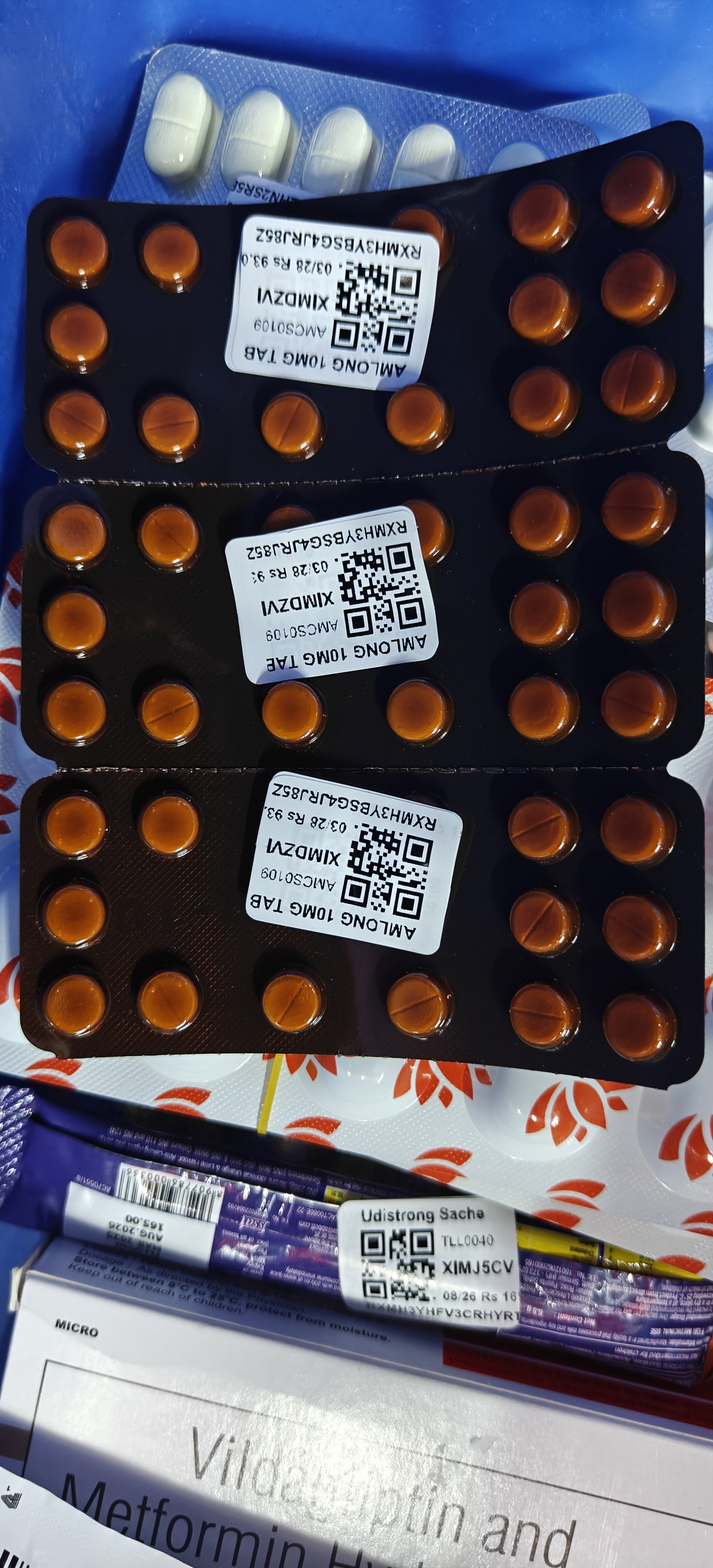qr_code: (340, 820, 433, 920), (333, 541, 426, 638)
